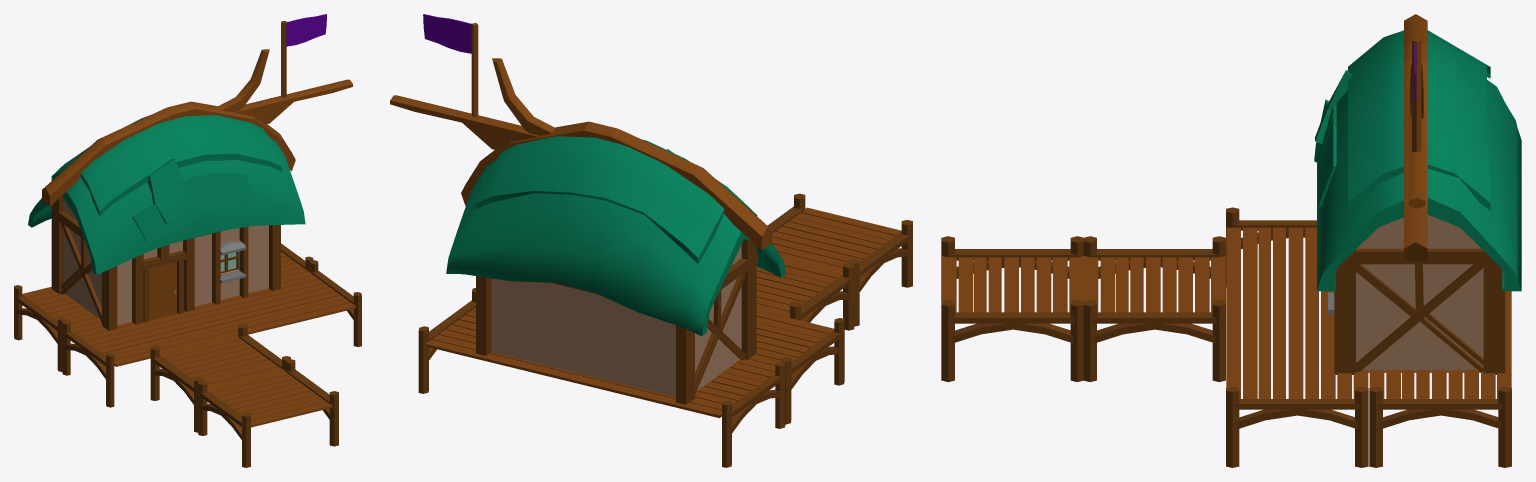
The model's file is Mesh_Dock_House.fbx.
3 views of the same model, side by side, from view 1: azimuth 30°, elevation 25°; view 2: azimuth 150°, elevation 25°; view 3: azimuth 270°, elevation 25° (orthographic). The views are drawn at different scales.
Parts seen in each view (by area): view 1: PIrate_House_Harbour; view 2: PIrate_House_Harbour; view 3: PIrate_House_Harbour.
Boxes of the visible parts, x1,y1,x2,y2 form: PIrate_House_Harbour: (14, 14, 361, 467); PIrate_House_Harbour: (390, 14, 912, 467); PIrate_House_Harbour: (941, 14, 1521, 467).
Bounding box in the file's own units: 1348 × 1183 × 1493.
Materials: 1 (1 with a texture image).
